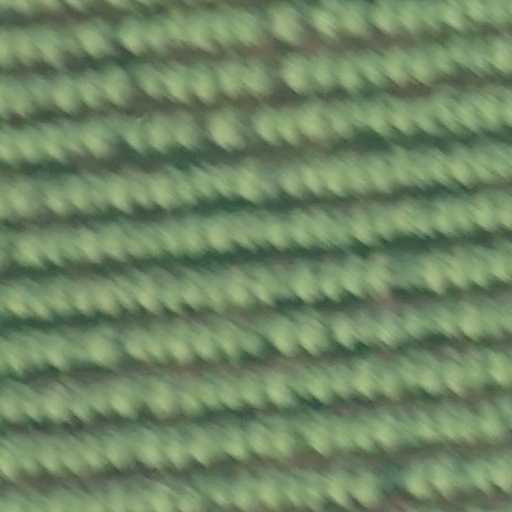eucalipto: (210, 101, 255, 150), (82, 117, 125, 161), (278, 52, 317, 100), (171, 107, 205, 151), (106, 65, 137, 108)
